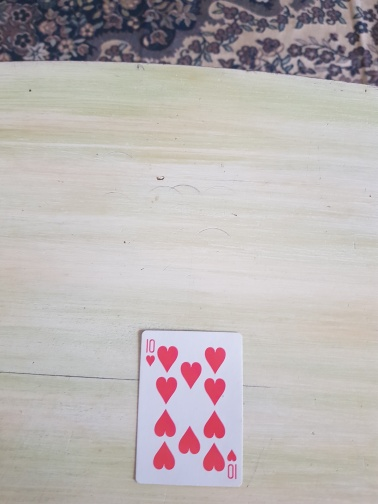ten: (133, 330, 246, 488)
